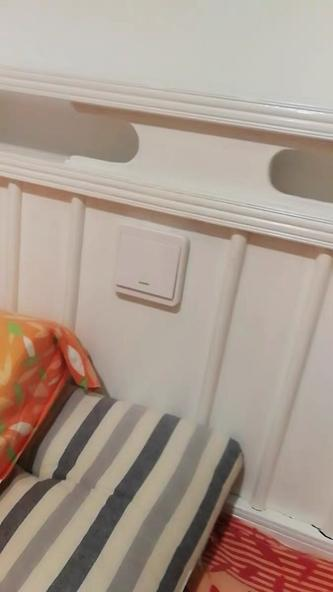switch: (113, 227, 185, 303)
